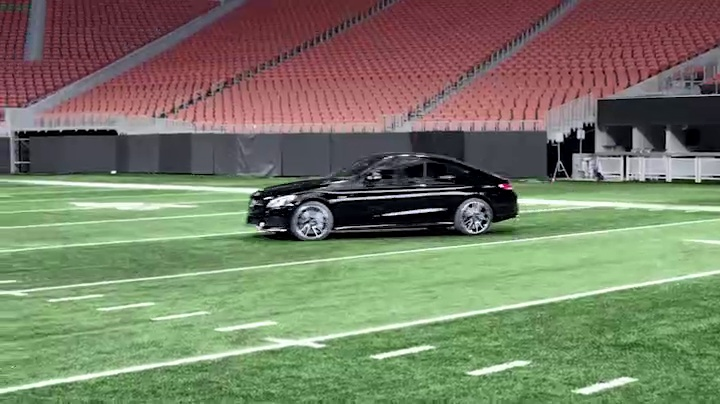amg: (240, 152, 518, 239)
